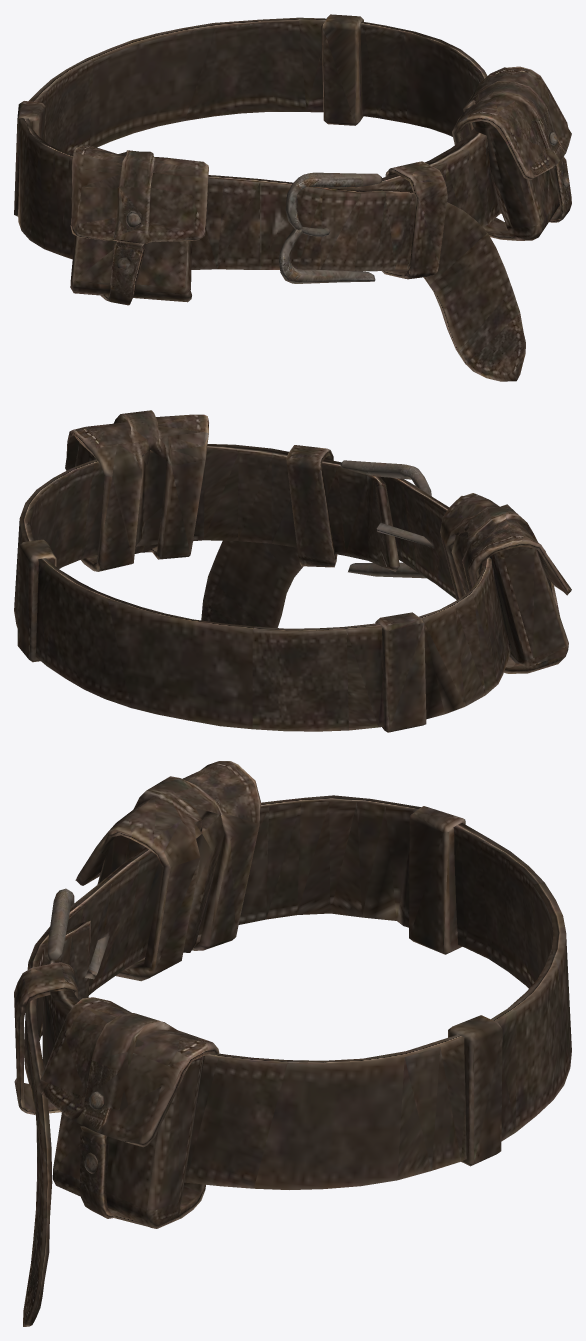
File: g_belt.glb
The picture shows the model from 3 angles, top to bottom: view 1: azimuth 30°, elevation 25°; view 2: azimuth 150°, elevation 25°; view 3: azimuth 270°, elevation 25°; orthographic projection. The views are drawn at different scales.
Visible parts, largest first — view 1: g_belt; view 2: g_belt; view 3: g_belt.
Boxes of the visible parts, <box> form: g_belt: <box>14,14,571,381</box>; g_belt: <box>14,410,571,732</box>; g_belt: <box>14,761,571,1326</box>.
Size of the model in its own units: 0.42 by 0.2184 by 0.3231.
Materials: 1 (1 with a texture image).
